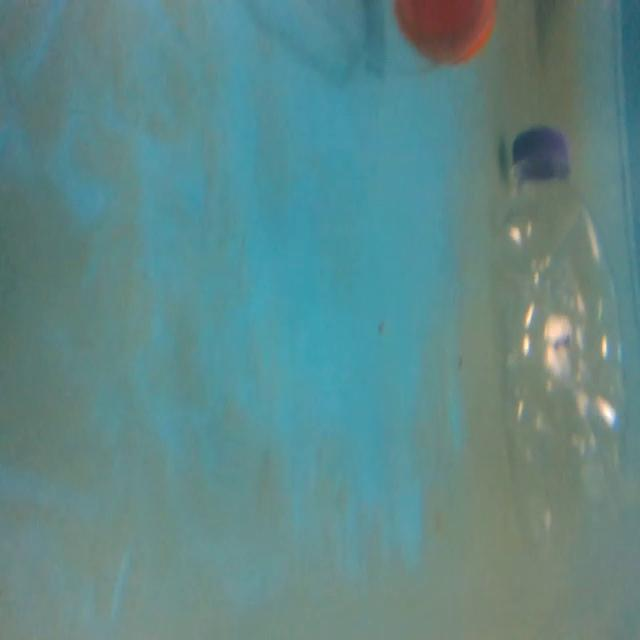plastic bottle: (496, 123, 640, 539)
